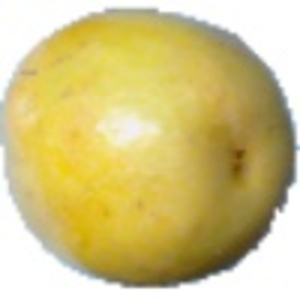maracujá: (1, 8, 300, 290)
